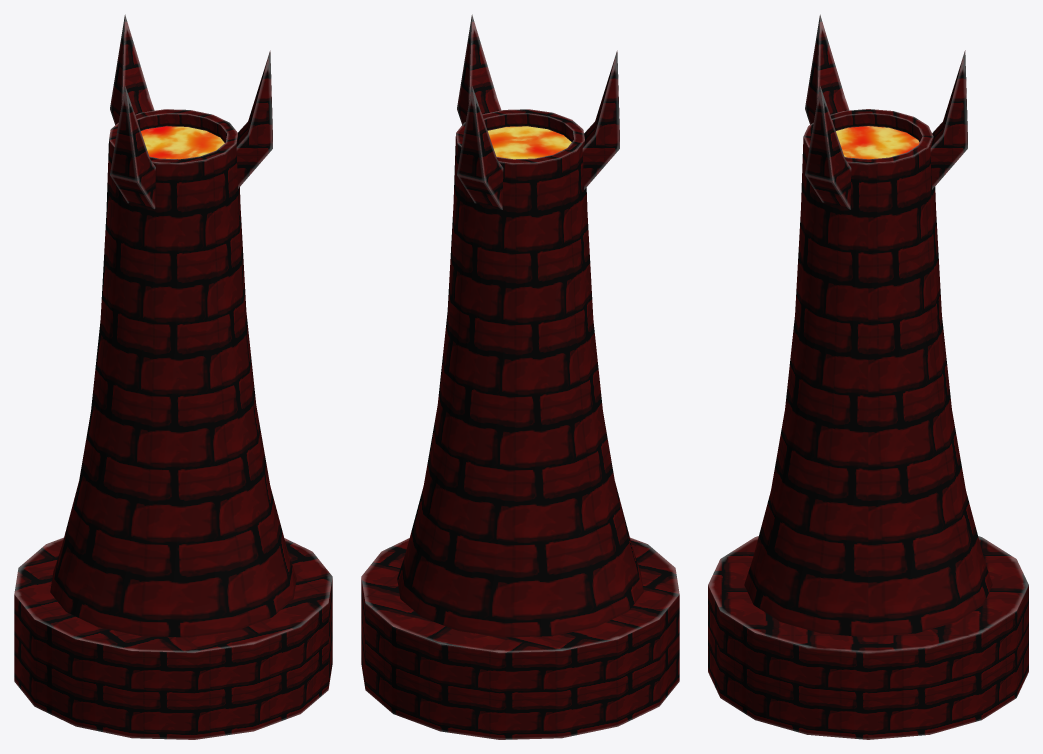
File: Tower_standard_1.2.fbx
3 views of the same model, side by side, from view 1: azimuth 30°, elevation 25°; view 2: azimuth 150°, elevation 25°; view 3: azimuth 270°, elevation 25° (orthographic).
Visible parts, largest first — view 1: Cube_0_1; view 2: Cube_0_1; view 3: Cube_0_1.
Part boxes in pixels (left/top/right/bottom): Cube_0_1: left=14, top=14, right=332, bottom=739; Cube_0_1: left=361, top=14, right=679, bottom=739; Cube_0_1: left=708, top=14, right=1028, bottom=739.
Size of the model in its own units: 100 by 214 by 100.
1 material, 1 textured.
